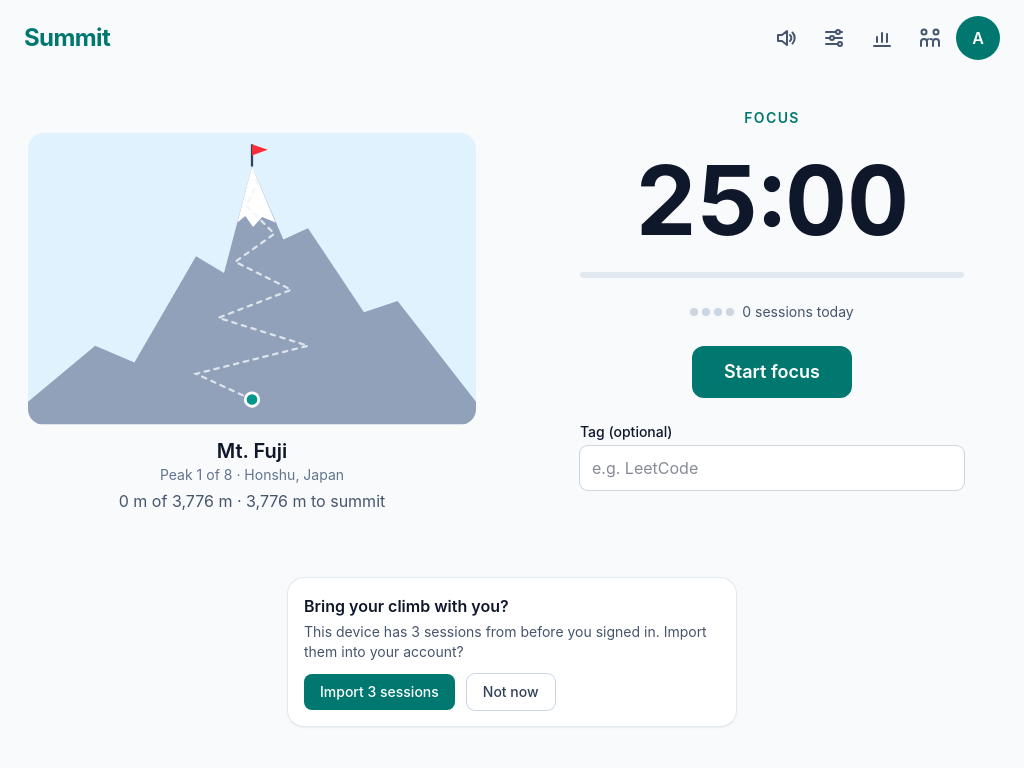
Test case: importing guest history › imports them, shows the result, refreshes the climb, and clears the device copy
The width and height of the screenshot is (1024, 768).
Check: the picture named "Climber at" is shown, box top-left (28, 133), bottom-right (476, 425)
What coordinates should you click on to do the following:
click the button "Import 3 sessions"
I would click on:
 (379, 692)
Its box is top-left (304, 674), bottom-right (455, 710).
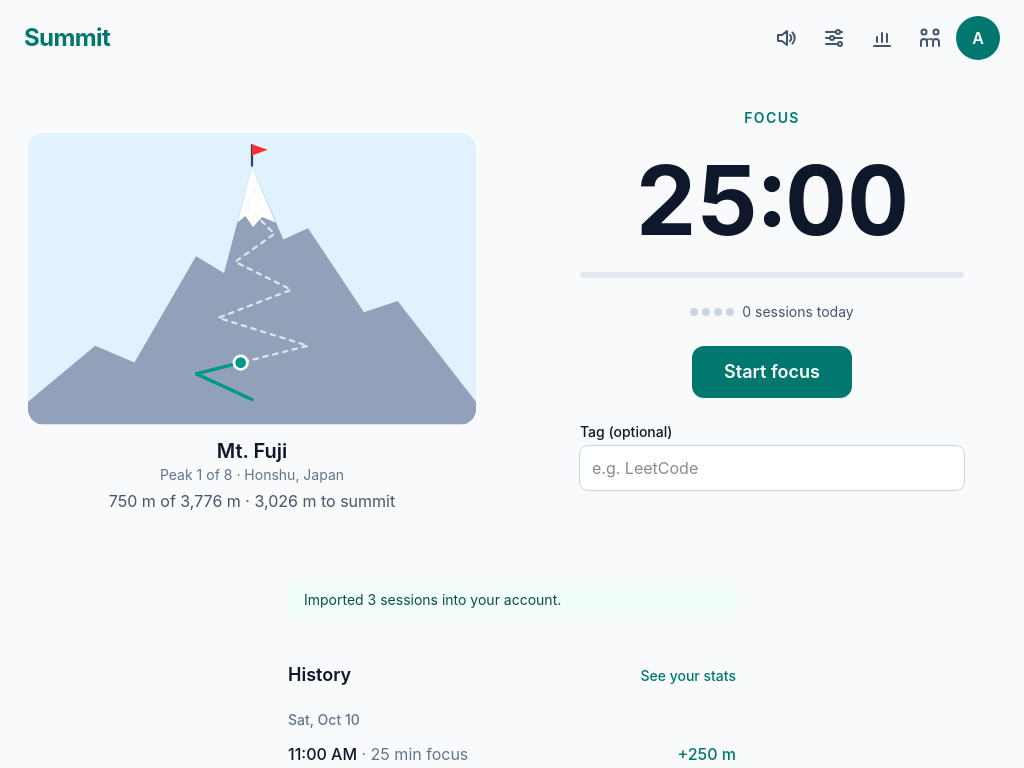
Check: the picture named "Climber at 750 m of 3,776 m on Mt. Fuji" is shown, box top-left (28, 133), bottom-right (476, 425)
Check: the text "Imported 3 sessions into your account." is shown, box top-left (288, 578), bottom-right (736, 622)
Check: the heading "Bring your climb with you?" is gone
